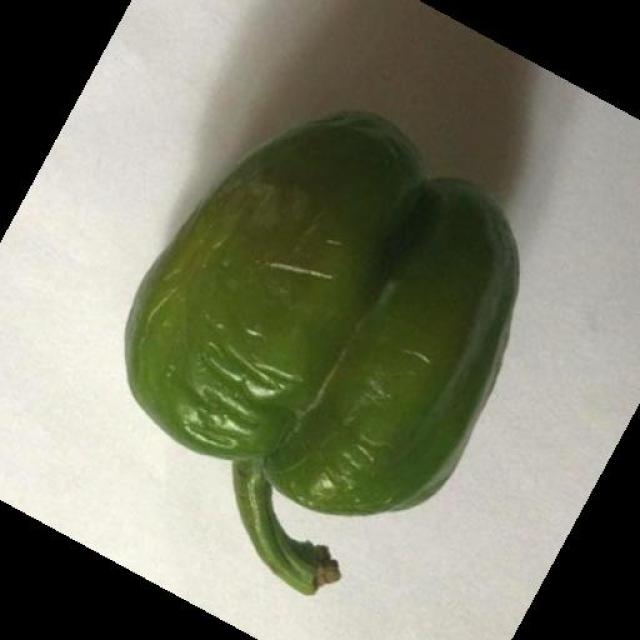Stale_Capsicum: (135, 136, 546, 517)
